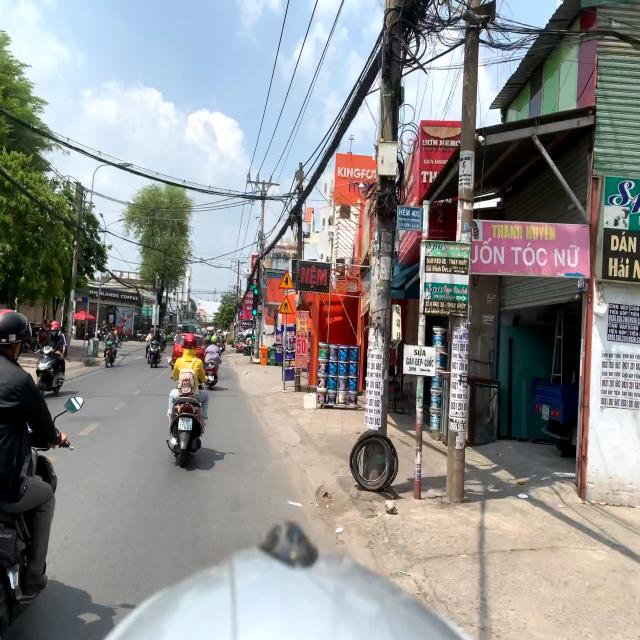W.207c: (279, 270, 294, 289)
W.224: (277, 294, 295, 314)
